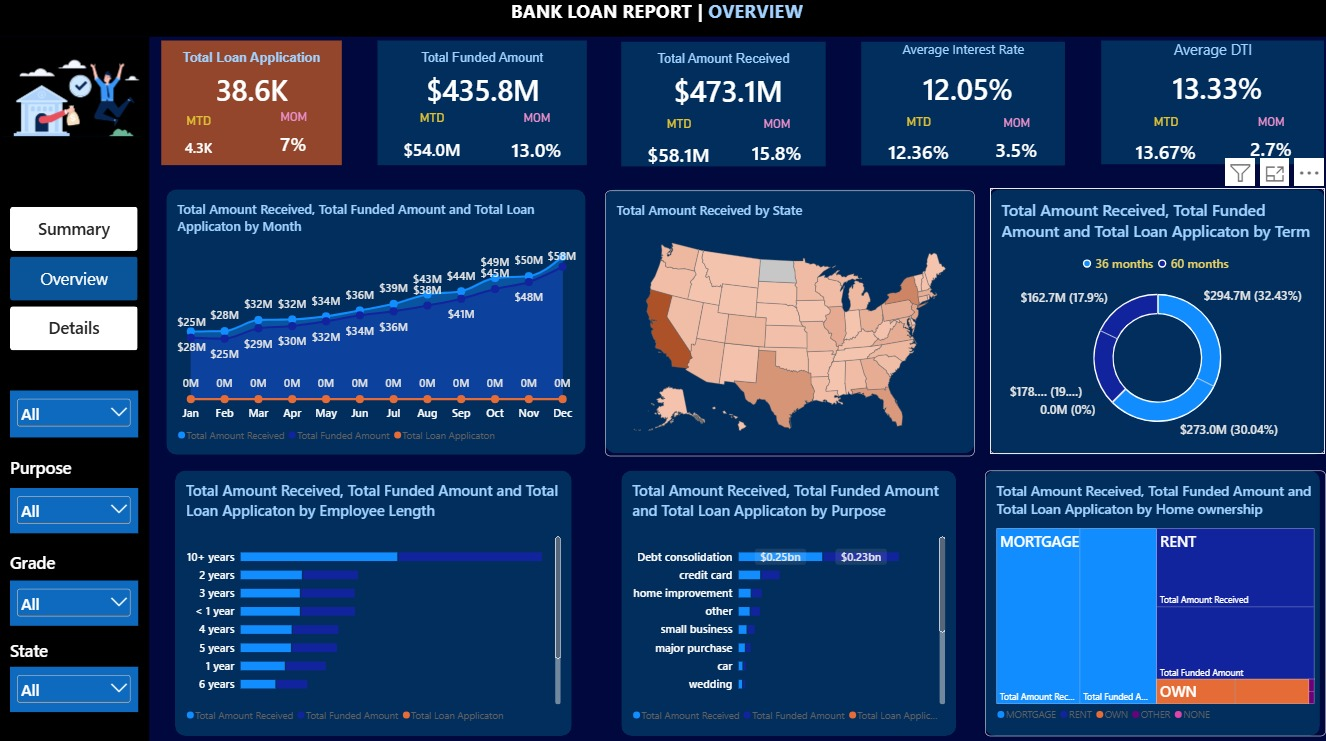

The dashboard page shown, as its layout file describes it:
{"tool":"powerbi","page":{"name":"Overview","canvas":[1920,1080],"ordinal":1},"visuals":[{"type":"shape","box":[0,0,1920,56],"z":0},{"type":"shape","box":[0,56.8,216.2,1022.3],"z":1000},{"type":"shape","box":[240.3,277.4,607.2,384.4],"z":2000},{"type":"textbox","box":[586,0,730,56],"z":3000},{"type":"shape","box":[1593.7,61.3,322.6,179.2],"z":3000,"group":"g5"},{"type":"shape","box":[233.7,61.4,261.4,180.4],"z":3000,"group":"g1"},{"type":"shape","box":[1246.7,62,294.9,179.2],"z":3000,"group":"g4"},{"type":"shape","box":[545.9,62.1,303,180.4],"z":3000,"group":"g2"},{"type":"shape","box":[899.8,62.9,296.1,180.4],"z":3000,"group":"g3"},{"type":"group","id":"g1","title":"Group 1","box":[233.7,61.4,261.4,180.4],"z":4000},{"type":"cardVisual","fields":{"Data":["financial_loan.Total Loan Applicaton"]},"box":[254.2,101.5,222.8,60.1],"z":4000,"group":"g1"},{"type":"cardVisual","fields":{"Data":["financial_loan.Total Funded Amount"]},"box":[569.6,102.2,258.2,60.1],"z":4000,"group":"g2"},{"type":"cardVisual","fields":{"Data":["financial_loan.Average Debt to incom"]},"box":[1625,105.7,274.5,48.7],"z":4000,"group":"g5"},{"type":"cardVisual","fields":{"Data":["financial_loan.Average Intrest Rate"]},"box":[1275.3,106.4,251,48.7],"z":4000,"group":"g4"},{"type":"cardVisual","fields":{"Data":["financial_loan.Total Amount Received"]},"box":[928.6,107.6,252,49],"z":4000,"group":"g3"},{"type":"textbox","box":[1594,60,323.5,41.7],"z":5000,"group":"g5"},{"type":"textbox","box":[1247,60.7,295.8,41.7],"z":5000,"group":"g4"},{"type":"group","id":"g2","title":"Group 1","box":[545.9,62.1,303,180.4],"z":5000},{"type":"textbox","box":[233.7,75.4,261.4,26.1],"z":5000,"group":"g1"},{"type":"textbox","box":[545.9,76.1,303,26.1],"z":5000,"group":"g2"},{"type":"textbox","box":[899.8,76.9,296.1,26.1],"z":5000,"group":"g3"},{"type":"group","id":"g3","title":"Group 1","box":[899.8,62.9,296.1,180.4],"z":6000},{"type":"cardVisual","title":"MTD","fields":{"Data":["financial_loan.MTD Funded Amount"]},"box":[549.5,163.9,150.4,76],"z":6000,"group":"g2"},{"type":"cardVisual","title":"MTD","fields":{"Data":["financial_loan.MTD Loan Applications"]},"box":[236,165.7,104.6,62.1],"z":6000,"group":"g1"},{"type":"cardVisual","title":"MTD","fields":{"Data":["financial_loan.MTD Average Debt To Income"]},"box":[1603,167.8,169.5,68.8],"z":6000,"group":"g5"},{"type":"cardVisual","title":"MTD","fields":{"Data":["financial_loan.MTD Intrest Rate"]},"box":[1251.1,168.3,159.2,68.8],"z":6000,"group":"g4"},{"type":"cardVisual","title":"MTD","fields":{"Data":["financial_loan.MTD Amount Received"]},"box":[904.2,170.8,159.8,71.8],"z":6000,"group":"g3"},{"type":"group","id":"g4","title":"Group 1","box":[1246.7,60.7,296.1,180.4],"z":7000},{"type":"cardVisual","title":"MOM","fields":{"Data":["financial_loan.MOM Loan Applications"]},"box":[372.4,161.6,104.6,62.1],"z":7000,"group":"g1"},{"type":"cardVisual","title":"MOM","fields":{"Data":["financial_loan.MOM Funded Amount"]},"box":[705.4,163.1,142.7,76],"z":7000,"group":"g2"},{"type":"cardVisual","title":"MOM","fields":{"Data":["financial_loan.MOM Average Debt to income"]},"box":[1763.7,168.7,151.5,62.3],"z":7000,"group":"g5"},{"type":"cardVisual","title":"MOM","fields":{"Data":["financial_loan.MOM Intrest Rate"]},"box":[1402.1,169.4,138.5,62.3],"z":7000,"group":"g4"},{"type":"cardVisual","title":"MOM","fields":{"Data":["financial_loan.MOM Amount Received"]},"box":[1055.5,170.8,139.5,67.7],"z":7000,"group":"g3"},{"type":"group","id":"g5","title":"Group 1","box":[1593.7,60,326.2,180.4],"z":8000},{"type":"slicer","fields":{"Values":["financial_loan.address_state"]},"box":[15.3,967.6,185.7,65.5],"z":9000},{"type":"textbox","box":[15.3,928.3,131.1,39.3],"z":10000},{"type":"slicer","fields":{"Values":["financial_loan.grade"]},"box":[15.3,843.1,185.7,65.5],"z":11000},{"type":"slicer","fields":{"Values":["financial_loan.purpose"]},"box":[15.3,709.9,185.7,65.5],"z":12000},{"type":"textbox","box":[15.3,801.6,185.7,41.5],"z":13000},{"type":"textbox","box":[15.3,664,185.7,45.9],"z":14000},{"type":"areaChart","fields":{"Category":["Date Table.Month"],"Y":["financial_loan.Total Amount Received","financial_loan.Total Funded Amount","financial_loan.Total Loan Applicaton"]},"box":[240.3,279.6,609.4,384.4],"z":15000},{"type":"slicer","fields":{"Values":["Select Measure.Select Measure"]},"box":[15.3,567.9,185.7,67.7],"z":16000},{"type":"shape","box":[875.9,277.4,535.2,382.3],"z":17000},{"type":"shapeMap","fields":{"Category":["financial_loan.address_state"],"Value":["financial_loan.Total Amount Received"]},"box":[875.9,279.6,535.2,384.4],"z":18000},{"type":"shape","box":[1432.9,277.4,484.9,384.4],"z":19000},{"type":"donutChart","fields":{"Category":["financial_loan.term"],"Y":["financial_loan.Total Amount Received","financial_loan.Total Funded Amount","financial_loan.Total Loan Applicaton"]},"box":[1432.9,275.2,484.9,384.4],"z":20000},{"type":"shape","box":[253.4,683.7,574.5,384.4],"z":21000},{"type":"barChart","fields":{"Category":["financial_loan.emp_length"],"Y":["financial_loan.Total Amount Received","financial_loan.Total Funded Amount","financial_loan.Total Loan Applicaton"]},"box":[253.4,683.7,574.5,384.4],"z":22000},{"type":"shape","box":[899.9,683.7,484.9,384.4],"z":23000},{"type":"barChart","fields":{"Category":["financial_loan.purpose"],"Y":["financial_loan.Total Amount Received","financial_loan.Total Funded Amount","financial_loan.Total Loan Applicaton"]},"box":[899.9,683.7,484.9,384.4],"z":24000},{"type":"shape","box":[1426.3,683.7,484.9,384.4],"z":25000},{"type":"treemap","fields":{"Group":["financial_loan.home_ownership"],"Values":["financial_loan.Total Amount Received","financial_loan.Total Funded Amount","financial_loan.Total Loan Applicaton"]},"box":[1426.3,683.7,493.7,384.4],"z":26000},{"type":"image","box":[0,28.4,216.2,229.4],"z":26001},{"type":"pageNavigator","box":[15.3,301.4,185.7,209.7],"z":26002}]}

Visuals, with their boxes on the page's 1920x1080 design canvas (x1, y1, x2, y2). These are canvas units, not pixel positions in the 1326x741 screenshot, which may show the page scaled, cropped or inside an application window:
shape: [x1=0, y1=0, x2=1920, y2=56]
shape: [x1=0, y1=57, x2=216, y2=1079]
shape: [x1=240, y1=277, x2=848, y2=662]
textbox: [x1=586, y1=0, x2=1316, y2=56]
shape: [x1=1594, y1=61, x2=1916, y2=240]
shape: [x1=234, y1=61, x2=495, y2=242]
shape: [x1=1247, y1=62, x2=1542, y2=241]
shape: [x1=546, y1=62, x2=849, y2=242]
shape: [x1=900, y1=63, x2=1196, y2=243]
"Group 1" group: [x1=234, y1=61, x2=495, y2=242]
cardVisual - financial_loan.Total Loan Applicaton: [x1=254, y1=102, x2=477, y2=162]
cardVisual - financial_loan.Total Funded Amount: [x1=570, y1=102, x2=828, y2=162]
cardVisual - financial_loan.Average Debt to incom: [x1=1625, y1=106, x2=1900, y2=154]
cardVisual - financial_loan.Average Intrest Rate: [x1=1275, y1=106, x2=1526, y2=155]
cardVisual - financial_loan.Total Amount Received: [x1=929, y1=108, x2=1181, y2=157]
textbox: [x1=1594, y1=60, x2=1918, y2=102]
textbox: [x1=1247, y1=61, x2=1543, y2=102]
"Group 1" group: [x1=546, y1=62, x2=849, y2=242]
textbox: [x1=234, y1=75, x2=495, y2=102]
textbox: [x1=546, y1=76, x2=849, y2=102]
textbox: [x1=900, y1=77, x2=1196, y2=103]
"Group 1" group: [x1=900, y1=63, x2=1196, y2=243]
"MTD" cardVisual: [x1=550, y1=164, x2=700, y2=240]
"MTD" cardVisual: [x1=236, y1=166, x2=341, y2=228]
"MTD" cardVisual: [x1=1603, y1=168, x2=1772, y2=237]
"MTD" cardVisual: [x1=1251, y1=168, x2=1410, y2=237]
"MTD" cardVisual: [x1=904, y1=171, x2=1064, y2=243]
"Group 1" group: [x1=1247, y1=61, x2=1543, y2=241]
"MOM" cardVisual: [x1=372, y1=162, x2=477, y2=224]
"MOM" cardVisual: [x1=705, y1=163, x2=848, y2=239]
"MOM" cardVisual: [x1=1764, y1=169, x2=1915, y2=231]
"MOM" cardVisual: [x1=1402, y1=169, x2=1541, y2=232]
"MOM" cardVisual: [x1=1056, y1=171, x2=1195, y2=238]
"Group 1" group: [x1=1594, y1=60, x2=1920, y2=240]
slicer - financial_loan.address_state: [x1=15, y1=968, x2=201, y2=1033]
textbox: [x1=15, y1=928, x2=146, y2=968]
slicer - financial_loan.grade: [x1=15, y1=843, x2=201, y2=909]
slicer - financial_loan.purpose: [x1=15, y1=710, x2=201, y2=775]
textbox: [x1=15, y1=802, x2=201, y2=843]
textbox: [x1=15, y1=664, x2=201, y2=710]
areaChart - Date Table.Month x financial_loan.Total Amount Received: [x1=240, y1=280, x2=850, y2=664]
slicer - Select Measure.Select Measure: [x1=15, y1=568, x2=201, y2=636]
shape: [x1=876, y1=277, x2=1411, y2=660]
shapeMap - financial_loan.address_state x financial_loan.Total Amount Received: [x1=876, y1=280, x2=1411, y2=664]
shape: [x1=1433, y1=277, x2=1918, y2=662]
donutChart - financial_loan.term x financial_loan.Total Amount Received: [x1=1433, y1=275, x2=1918, y2=660]
shape: [x1=253, y1=684, x2=828, y2=1068]
barChart - financial_loan.emp_length x financial_loan.Total Amount Received: [x1=253, y1=684, x2=828, y2=1068]
shape: [x1=900, y1=684, x2=1385, y2=1068]
barChart - financial_loan.purpose x financial_loan.Total Amount Received: [x1=900, y1=684, x2=1385, y2=1068]
shape: [x1=1426, y1=684, x2=1911, y2=1068]
treemap - financial_loan.home_ownership x financial_loan.Total Amount Received: [x1=1426, y1=684, x2=1920, y2=1068]
image: [x1=0, y1=28, x2=216, y2=258]
pageNavigator: [x1=15, y1=301, x2=201, y2=511]
